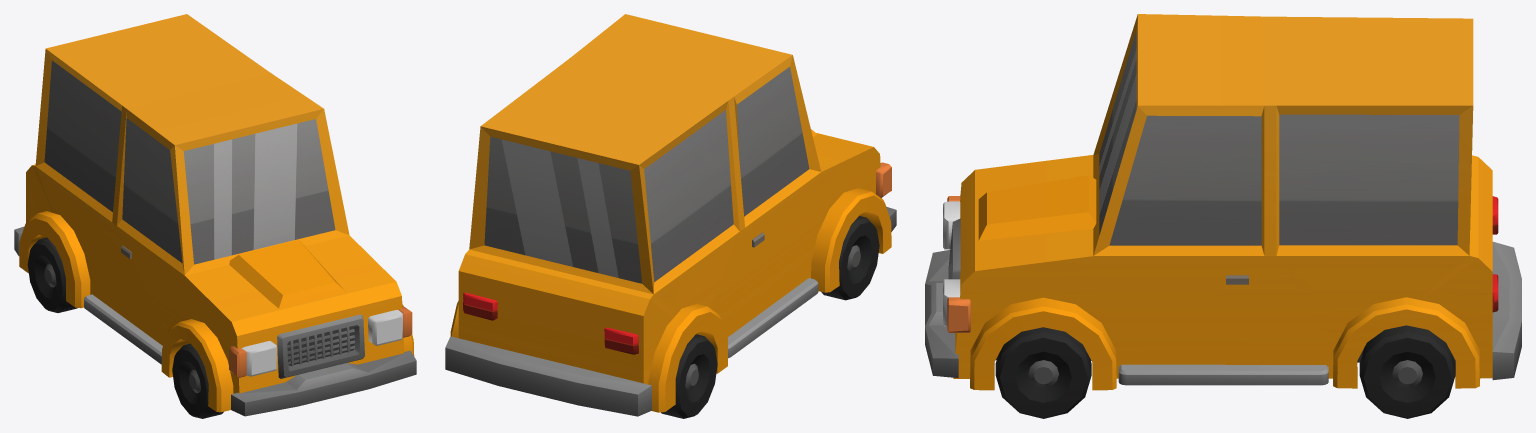
File: Car_5_19.glb
3 views of the same model, side by side, from view 1: azimuth 30°, elevation 25°; view 2: azimuth 150°, elevation 25°; view 3: azimuth 270°, elevation 25° (orthographic). The views are drawn at different scales.
Parts seen in each view (by area): view 1: Car_5_19, W_br, W_fr; view 2: Car_5_19, W_br, W_fr; view 3: Car_5_19, W_bl, W_fl.
Part boxes in pixels (bbox=[...]): Car_5_19: bbox=[14, 14, 416, 416]; W_br: bbox=[27, 237, 77, 312]; W_fr: bbox=[172, 343, 223, 418]; Car_5_19: bbox=[445, 14, 896, 416]; W_br: bbox=[661, 334, 717, 418]; W_fr: bbox=[821, 216, 879, 300]; Car_5_19: bbox=[925, 14, 1521, 390]; W_bl: bbox=[1359, 325, 1455, 418]; W_fl: bbox=[995, 327, 1091, 418].
Bounding box in the file's own units: 1.13 × 1.3 × 2.33.
6 materials, 6 textured.
